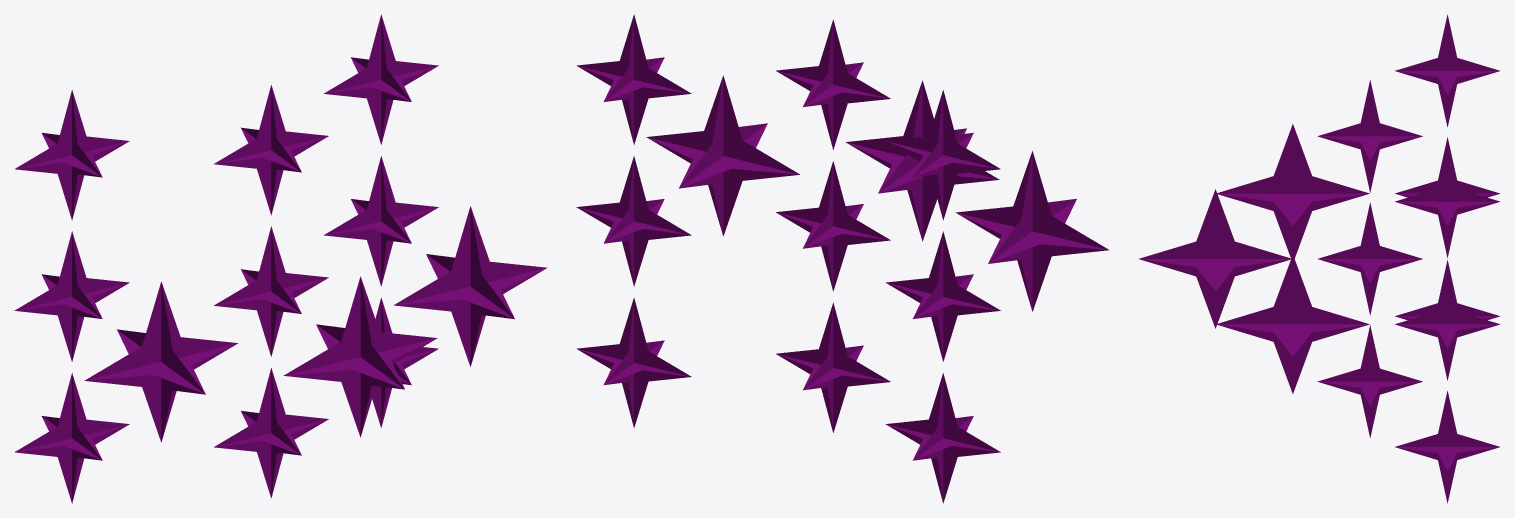
The model's file is model_3120_spotanim.obj.
The picture shows the model from 3 angles, left to right: view 1: azimuth 30°, elevation 25°; view 2: azimuth 150°, elevation 25°; view 3: azimuth 270°, elevation 25°; orthographic projection. The views are drawn at different scales.
Parts seen in each view (by area): view 1: 3120; view 2: 3120; view 3: 3120.
Part boxes in pixels (box(x1,y1,x2,y2)): 3120: box(14, 14, 547, 503); 3120: box(576, 14, 1109, 503); 3120: box(1139, 14, 1499, 503).
Size of the model in its own units: 96 by 82 by 75.
